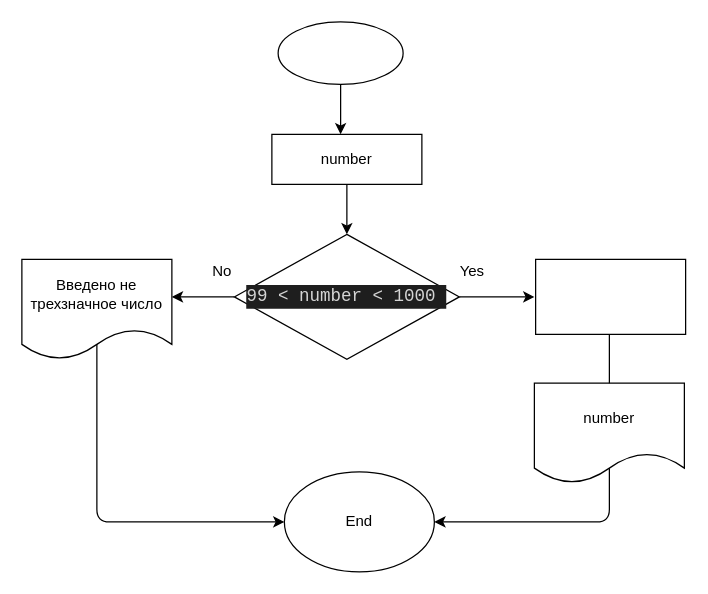
Image size: 708x594. Some labels were removed from this diagram. The shapes that lost their labels are listed below. From the top down, each one's centre as x and y in pixels, then its label:
[340,52]: Start
[610,296]: number = number %100/10
